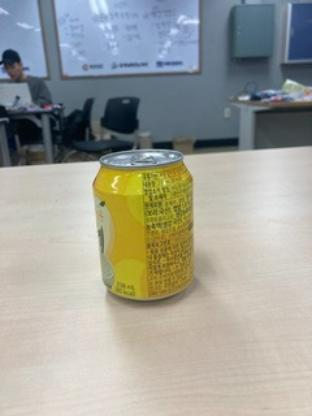Can: (91, 143, 198, 308)
